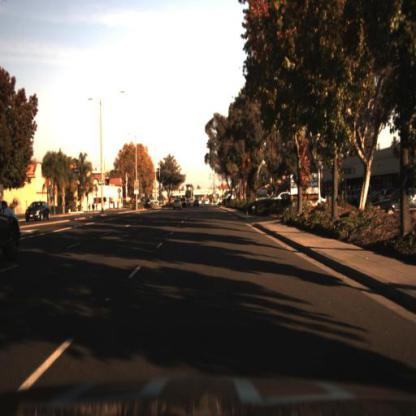car: (1, 193, 26, 265), (1, 200, 26, 269), (22, 197, 53, 224), (275, 186, 301, 205), (171, 197, 184, 213), (193, 198, 201, 212)
